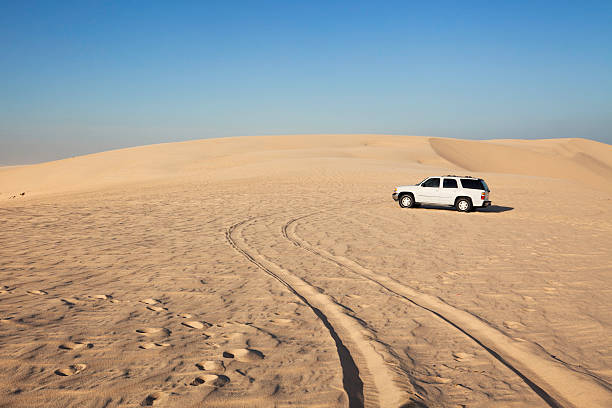vehicle_track: (282, 214, 611, 407), (226, 218, 406, 407)
